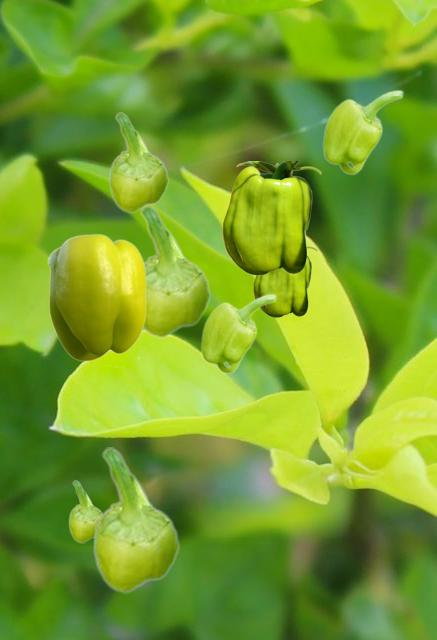bell_pepper: (92, 447, 179, 592), (47, 233, 145, 360), (222, 161, 320, 274), (138, 205, 210, 337), (322, 89, 403, 174), (200, 293, 276, 373), (108, 112, 168, 212), (253, 246, 316, 316), (68, 480, 102, 542)
